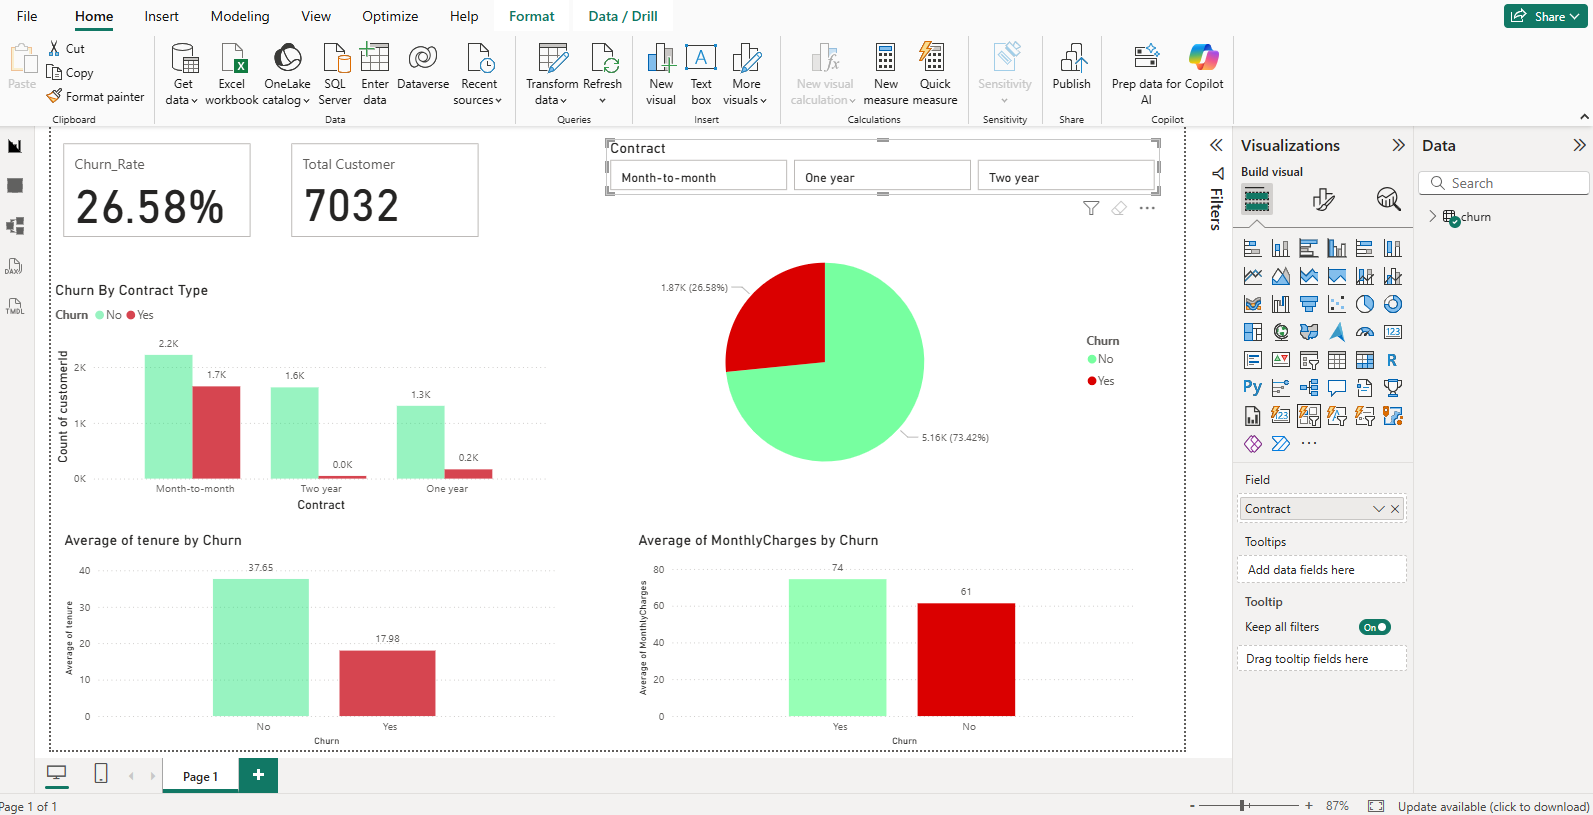

The page's visual inventory and layout, read from the dashboard file:
{"tool":"powerbi","page":{"name":"Page 1","canvas":[1307,720],"ordinal":0},"visuals":[{"type":"cardVisual","title":"Total Customer","fields":{"Data":["Count(churn.customerId)"]},"box":[272.3,15.6,226.6,118.7],"z":0},{"type":"cardVisual","fields":{"Data":["churn.Churn_Rate"]},"box":[9.7,15.6,226.6,118.7],"z":1000},{"type":"clusteredColumnChart","title":"Churn By Contract Type","fields":{"Category":["churn.Contract"],"Series":["churn.Churn"],"Y":["CountNonNull(churn.customerId)"]},"box":[0,179.1,578.5,271.3],"z":2000},{"type":"clusteredColumnChart","fields":{"Category":["churn.Churn"],"Y":["Avg(churn.MonthlyCharges)"]},"box":[672.5,467.5,584.8,252.5],"z":3000},{"type":"clusteredColumnChart","fields":{"Category":["churn.Churn"],"Y":["Avg(churn.tenure)"]},"box":[9.9,467.5,575.8,252.5],"z":4000},{"type":"advancedSlicerVisual","fields":{"Values":["churn.Contract"]},"box":[640.3,15.2,639.4,64.5],"z":5000},{"type":"pieChart","fields":{"Category":["churn.Churn"],"Y":["CountNonNull(churn.customerId)"]},"box":[585.7,119.1,671.6,307.2],"z":6000}]}

Visuals, with their boxes on the page's 1307x720 design canvas (x1, y1, x2, y2). These are canvas units, not pixel positions in the 1593x815 screenshot, which may show the page scaled, cropped or inside an application window:
"Total Customer" cardVisual: locate(272, 16, 499, 134)
cardVisual - churn.Churn_Rate: locate(10, 16, 236, 134)
"Churn By Contract Type" clusteredColumnChart: locate(0, 179, 578, 450)
clusteredColumnChart - churn.Churn x Avg(churn.MonthlyCharges): locate(672, 468, 1257, 720)
clusteredColumnChart - churn.Churn x Avg(churn.tenure): locate(10, 468, 586, 720)
advancedSlicerVisual - churn.Contract: locate(640, 15, 1280, 80)
pieChart - churn.Churn x CountNonNull(churn.customerId): locate(586, 119, 1257, 426)
